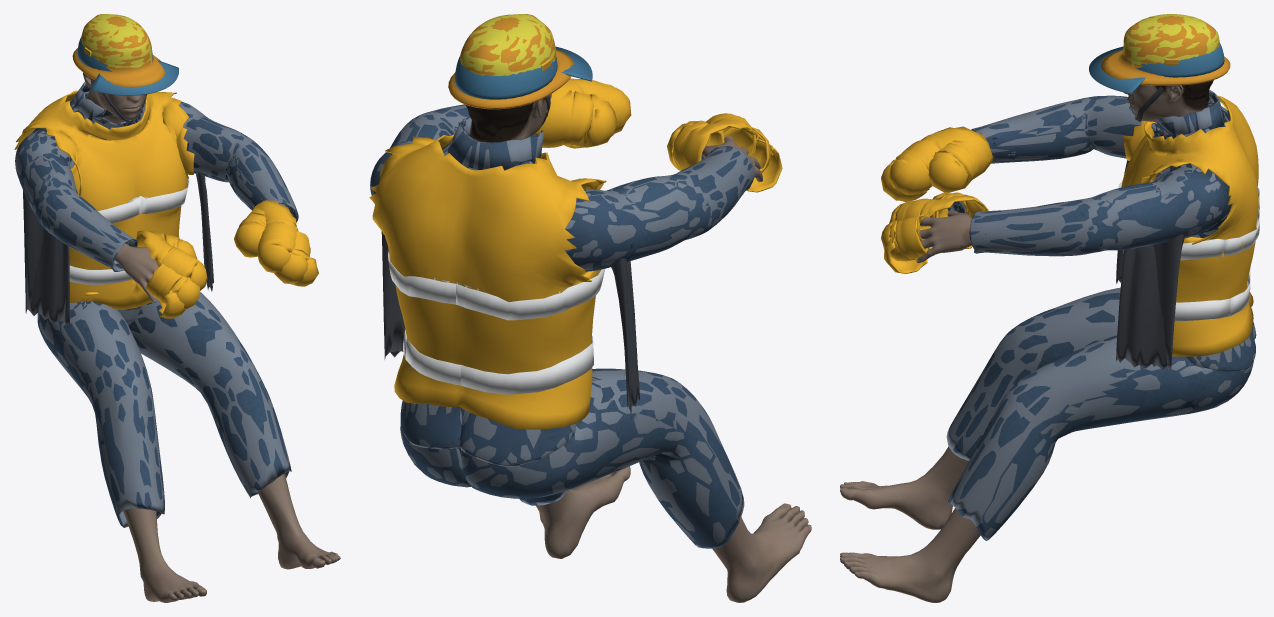
The model's file is motorista.glb.
3 views of the same model, side by side, from view 1: azimuth 30°, elevation 25°; view 2: azimuth 150°, elevation 25°; view 3: azimuth 270°, elevation 25° (orthographic). The views are drawn at different scales.
Visible parts, largest first — view 1: mot_camisa_algodao, mot_colete_refletivo, mot_vestimenta_fr, mot_corpo, mot_base_roupa, mot_capacete_b, mot_capacete_a, mot_bone; view 2: mot_colete_refletivo, mot_vestimenta_fr, mot_camisa_algodao, mot_corpo, mot_capacete_b, mot_base_roupa, mot_capacete_a, mot_bone, mot_cabelo; view 3: mot_camisa_algodao, mot_vestimenta_fr, mot_colete_refletivo, mot_corpo, mot_base_roupa, mot_capacete_b, mot_bone, mot_capacete_a.
Part boxes in pixels (x1,y1,x2,y2): mot_camisa_algodao: [15, 81, 298, 527]; mot_colete_refletivo: [14, 90, 318, 318]; mot_vestimenta_fr: [15, 83, 298, 525]; mot_corpo: [83, 72, 340, 602]; mot_base_roupa: [23, 173, 213, 325]; mot_capacete_b: [72, 14, 165, 121]; mot_capacete_a: [81, 14, 152, 68]; mot_bone: [77, 37, 178, 95]; mot_colete_refletivo: [369, 78, 782, 429]; mot_vestimenta_fr: [370, 104, 754, 548]; mot_camisa_algodao: [371, 105, 754, 547]; mot_corpo: [469, 94, 811, 602]; mot_capacete_b: [448, 14, 574, 126]; mot_base_roupa: [381, 231, 639, 419]; mot_capacete_a: [460, 14, 556, 75]; mot_bone: [454, 46, 592, 99]; mot_cabelo: [466, 103, 532, 137]; mot_camisa_algodao: [946, 90, 1255, 539]; mot_vestimenta_fr: [948, 93, 1256, 540]; mot_colete_refletivo: [881, 95, 1259, 356]; mot_corpo: [840, 84, 1208, 602]; mot_base_roupa: [1116, 160, 1184, 371]; mot_capacete_b: [1101, 15, 1230, 121]; mot_bone: [1089, 43, 1224, 93]; mot_capacete_a: [1122, 14, 1219, 67].
Size of the model in its own units: 0.675 by 1.39 by 0.9705.
Materials: 13 (4 with a texture image).
